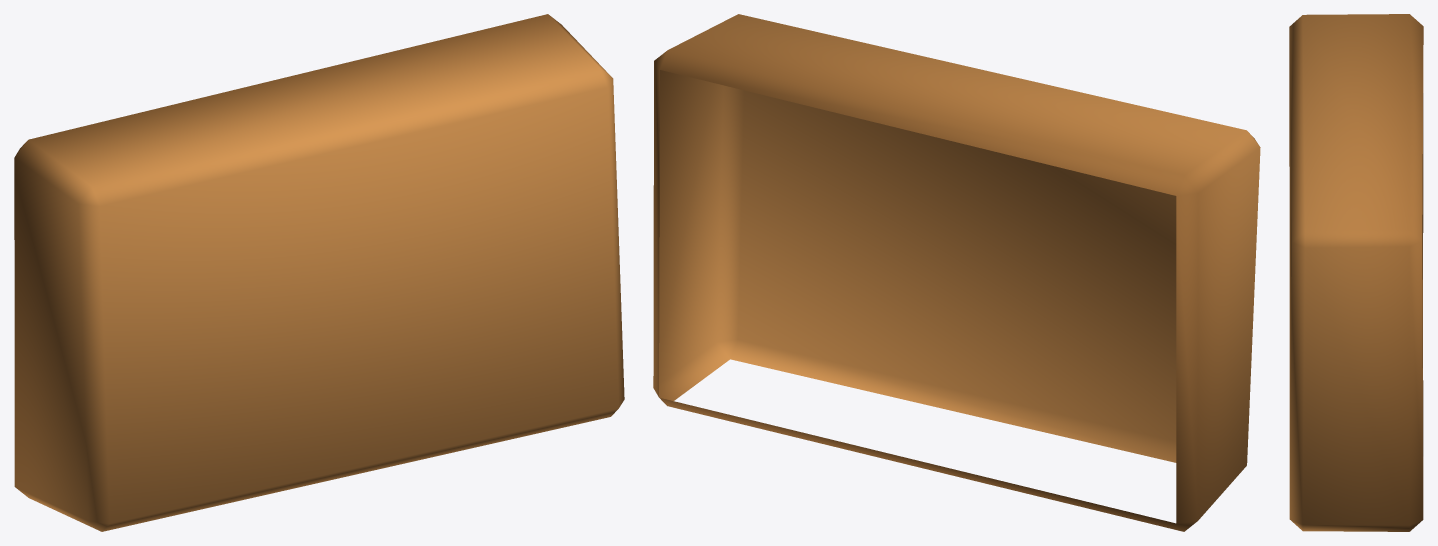
The model's file is block_m2_lo.glb.
The picture shows the model from 3 angles, left to right: view 1: azimuth 30°, elevation 25°; view 2: azimuth 150°, elevation 25°; view 3: azimuth 270°, elevation 25°; orthographic projection. The views are drawn at different scales.
Parts seen in each view (by area): view 1: block_m2_lo; view 2: block_m2_lo; view 3: block_m2_lo.
Part boxes in pixels (x1=…): block_m2_lo: x1=14, y1=14, x2=624, y2=531; block_m2_lo: x1=653, y1=14, x2=1260, y2=531; block_m2_lo: x1=1289, y1=14, x2=1423, y2=531.
Bounding box in the file's own units: 1.6 × 1 × 0.4016.
